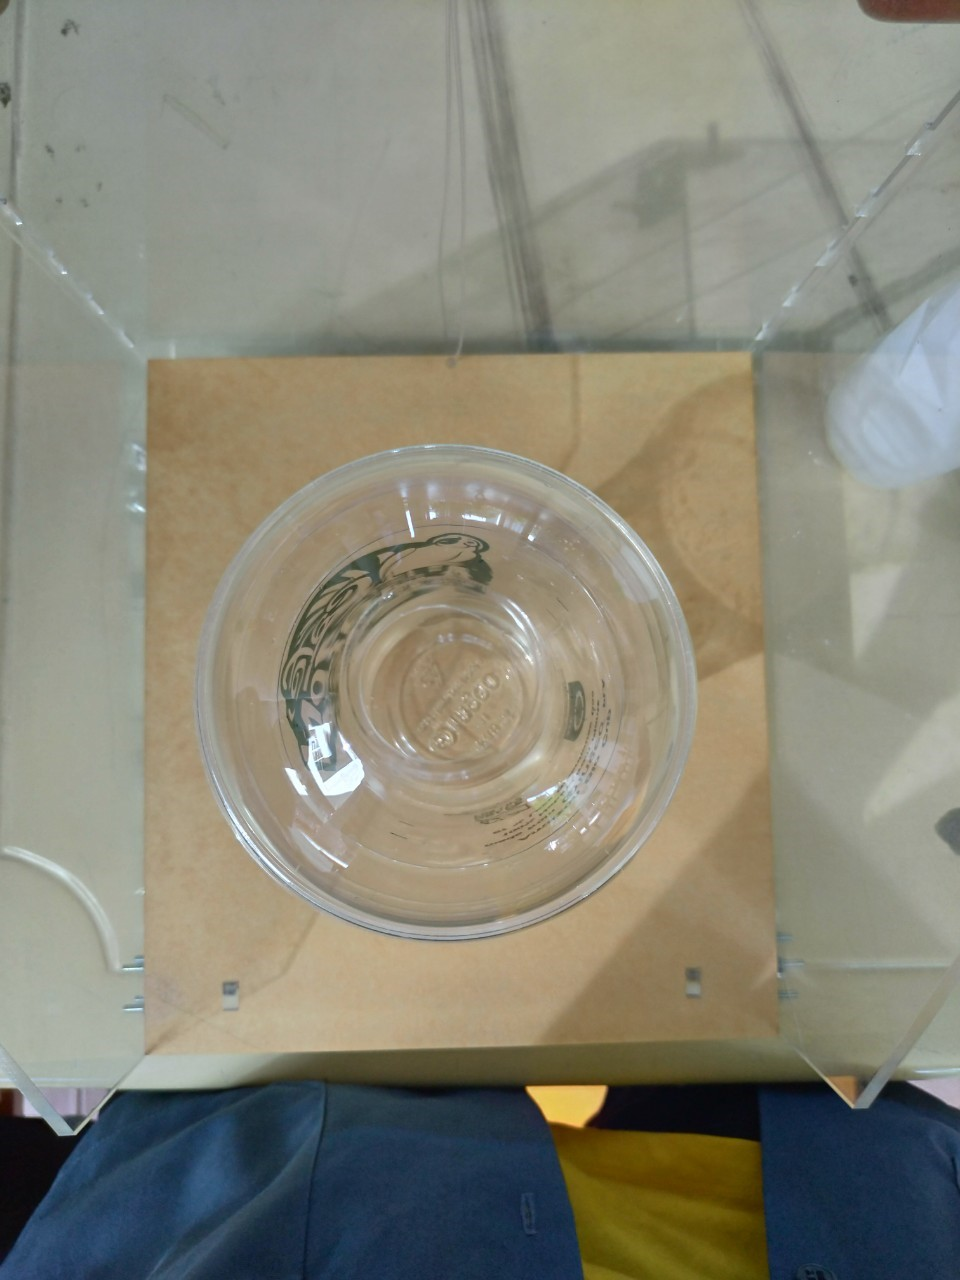PlasticCup: (194, 445, 704, 941)
